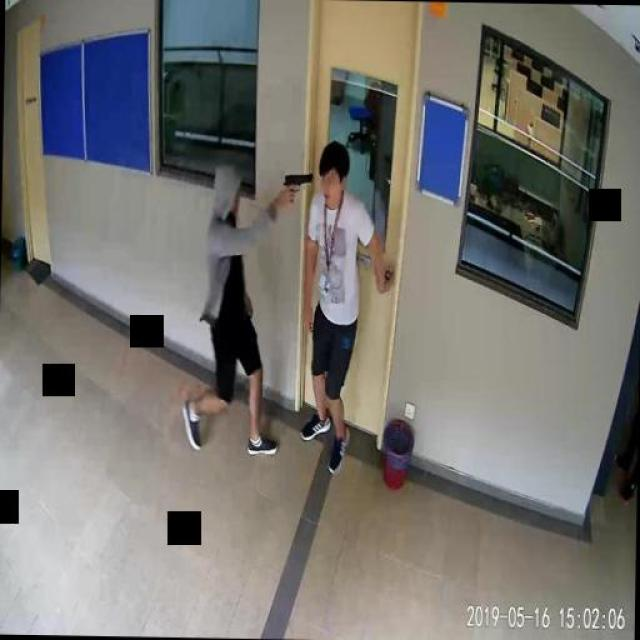gun: (278, 169, 318, 210)
